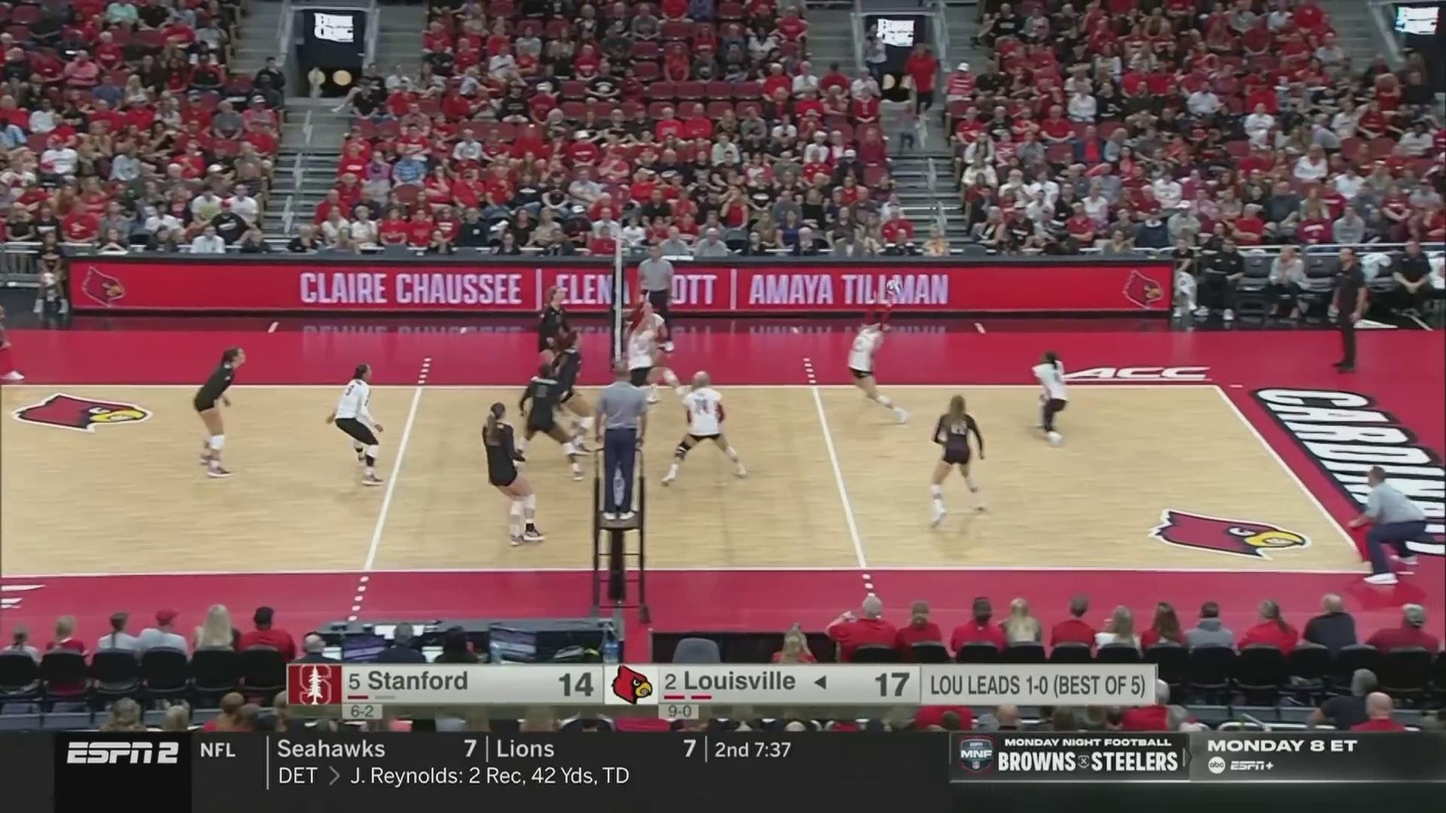player: (660, 371, 747, 481), (483, 401, 543, 549), (848, 289, 909, 424), (514, 365, 584, 482), (929, 392, 989, 525), (191, 348, 247, 477), (329, 364, 388, 484), (625, 318, 690, 415), (548, 330, 592, 455), (537, 285, 576, 402), (1027, 348, 1073, 446), (630, 300, 668, 403)
refree: (1349, 463, 1425, 584), (593, 365, 643, 521), (631, 244, 675, 349)
